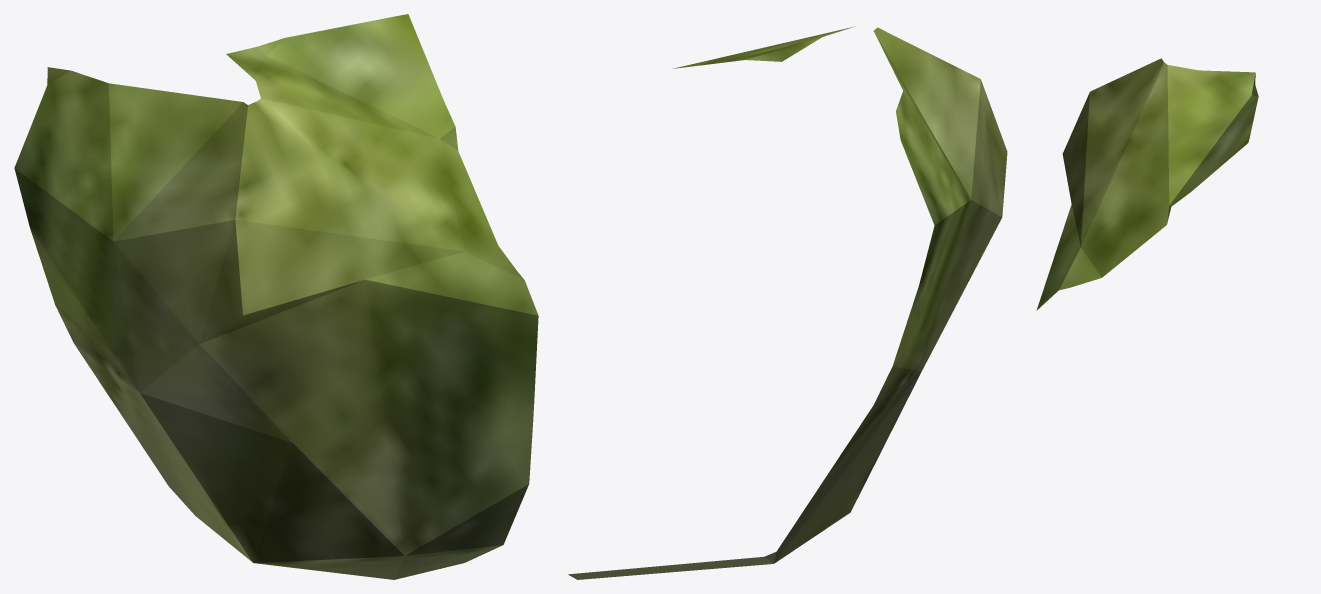
3 views of the same model, side by side, from view 1: azimuth 30°, elevation 25°; view 2: azimuth 150°, elevation 25°; view 3: azimuth 270°, elevation 25° (orthographic). The views are drawn at different scales.
Size of the model in its own units: 0.3013 by 0.4315 by 0.2419.
1 material, 1 textured.
